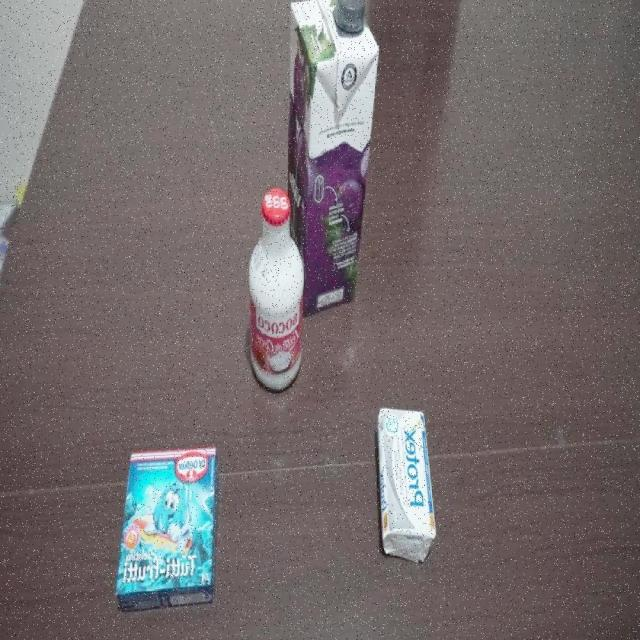CoconutMilk: (247, 188, 305, 394)
Gelatine: (116, 443, 222, 612)
Soap: (377, 406, 435, 566)
